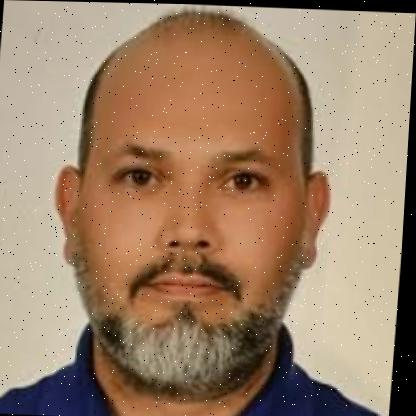person: (35, 5, 341, 404)
